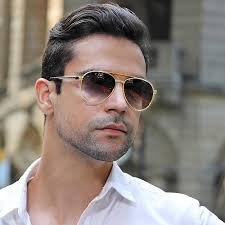g.y: (81, 70, 114, 104)
